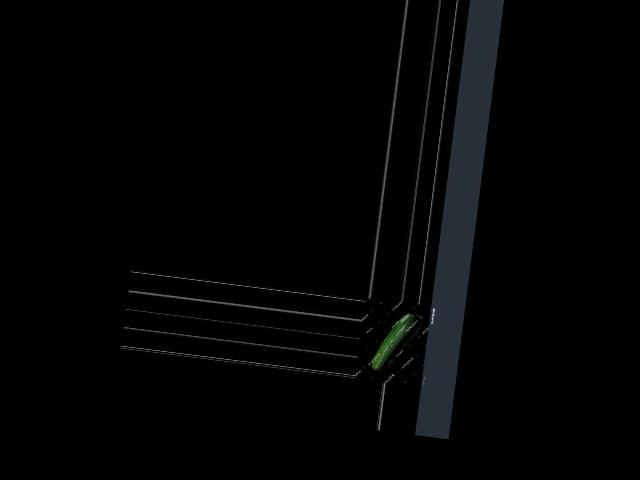cucumber: (371, 309, 416, 374)
